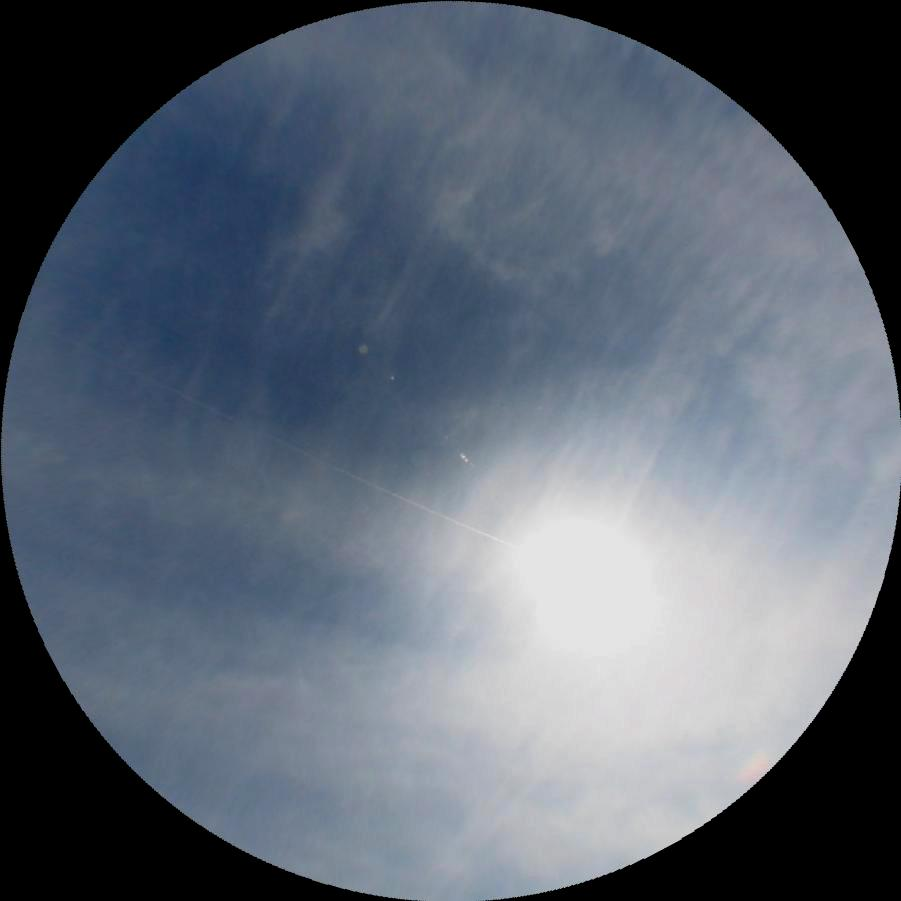contrail young: (95, 352, 519, 553)
sun: (505, 495, 670, 670)
